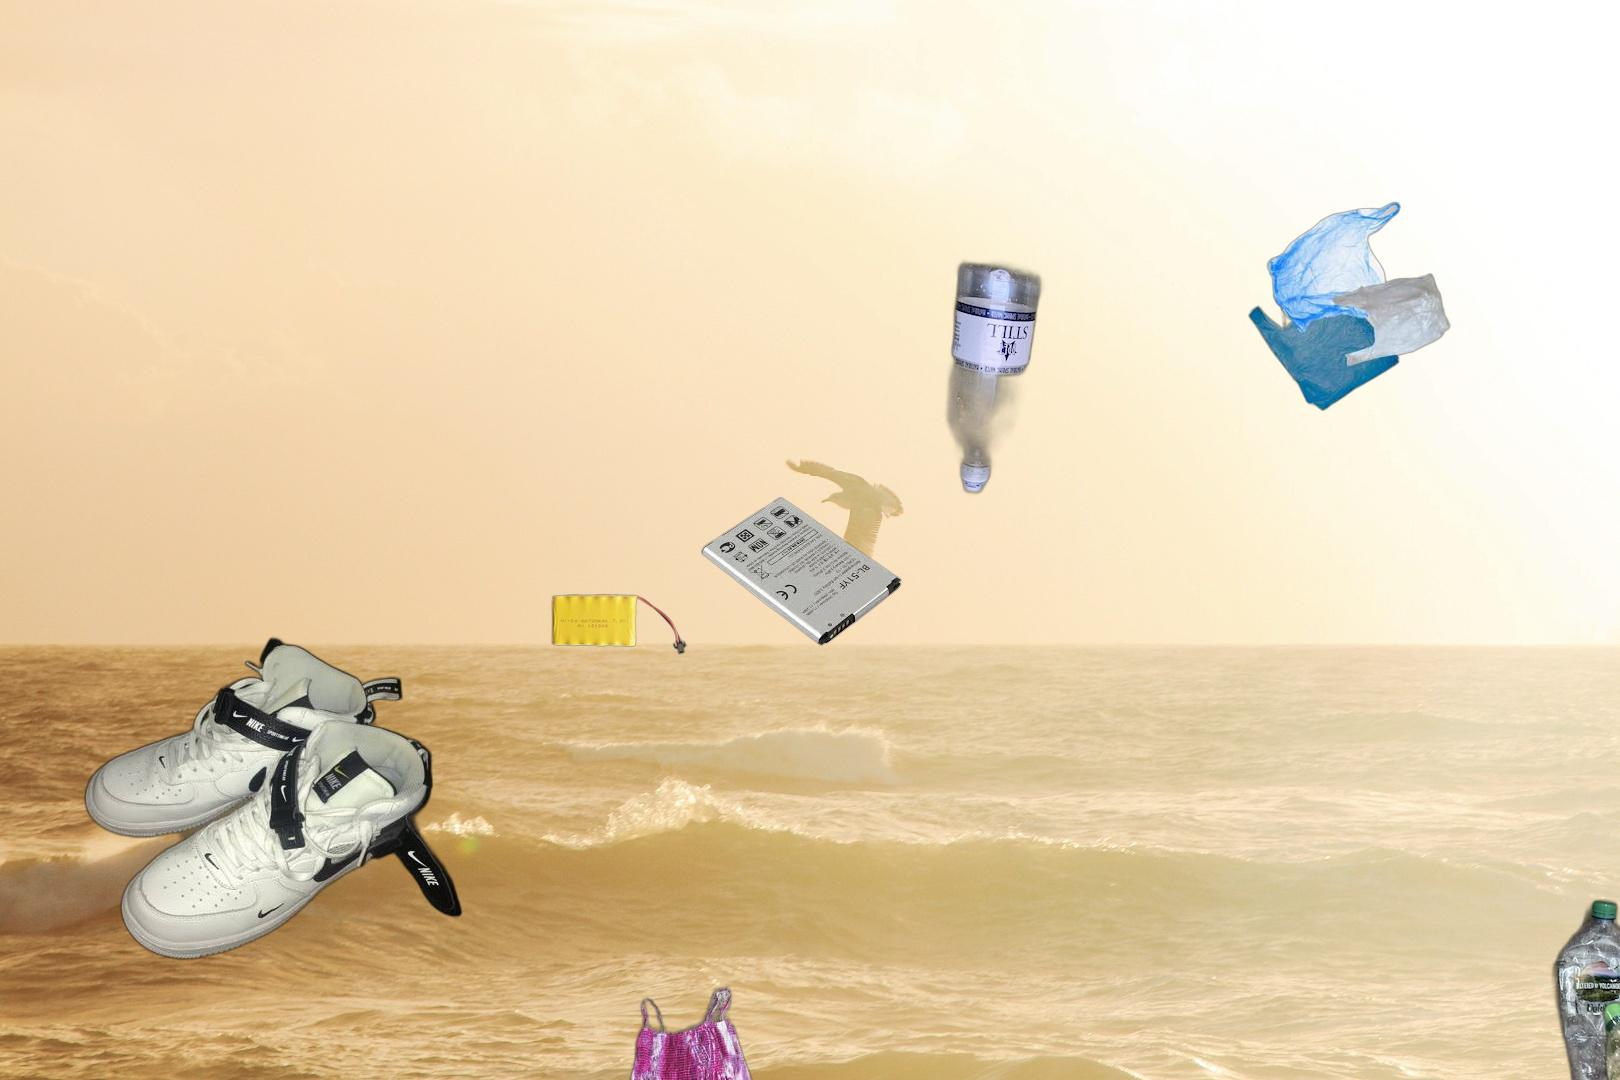battery: (699, 495, 904, 648), (548, 591, 689, 657)
clothes: (517, 982, 861, 1080)
plastic-bag: (1246, 199, 1452, 413)
plastic-bottles: (943, 257, 1117, 579), (1549, 894, 1620, 1080), (1589, 997, 1620, 1080)
shoes: (81, 633, 465, 963)
